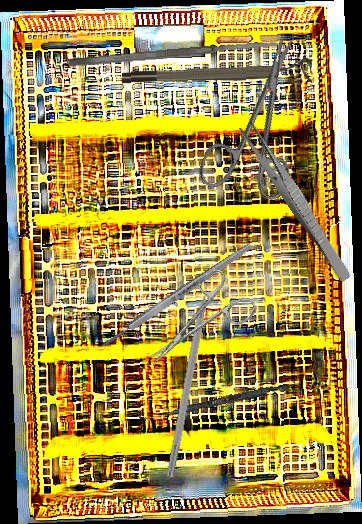Chopper: (165, 268, 226, 480)
Dressing Forceps: (236, 119, 357, 284)
Fixation Ring: (121, 57, 313, 87)
Iris Scissors: (195, 21, 333, 210), (128, 261, 261, 385)
Scalpel Handle: (99, 240, 255, 351)
Spatula Surgical: (139, 377, 301, 426), (66, 38, 280, 69)
